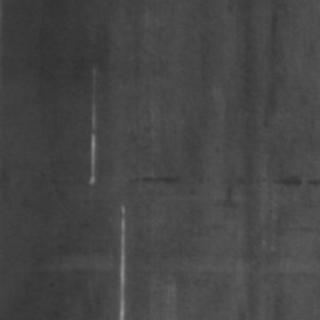scratches: (82, 64, 98, 186), (112, 200, 128, 316)
